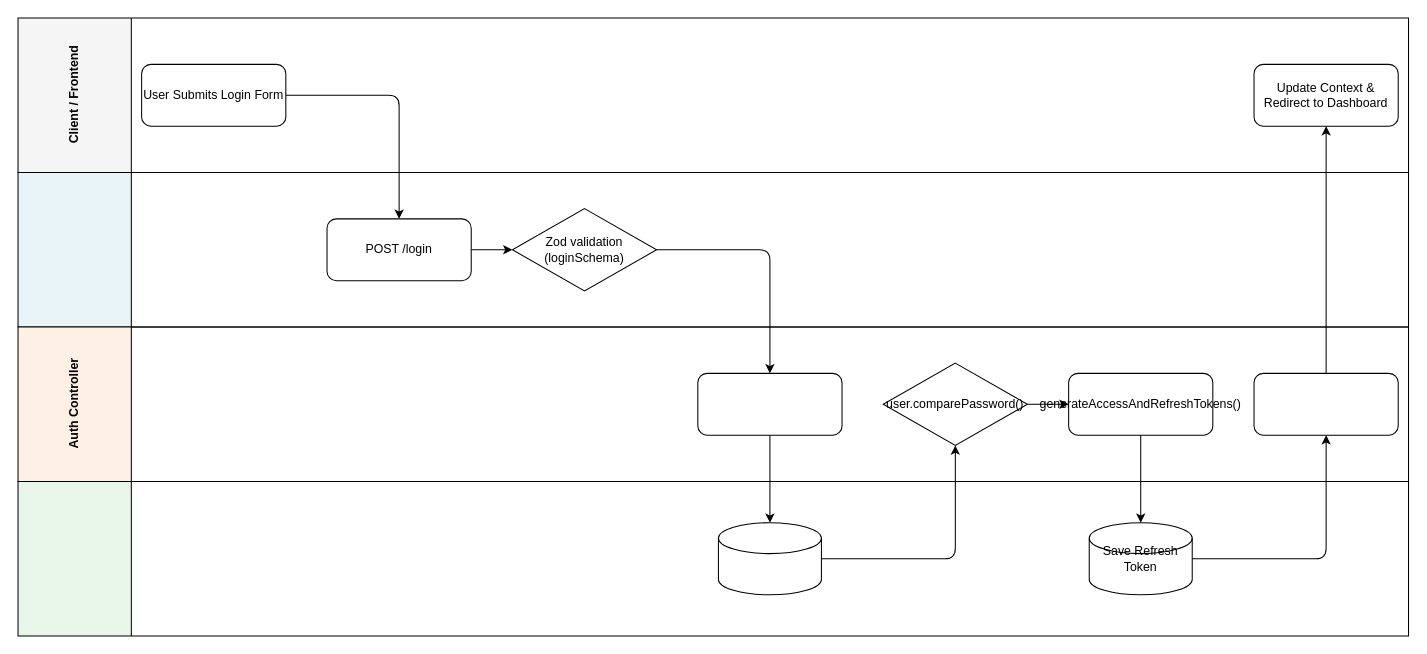
Image size: 1427x654. Some labels were removed from this diagram. Here are the shapes that lost their labels. From the top down, the box of each, then its label:
(17, 171, 1409, 327): Router & Middleware
(697, 372, 842, 435): User.findOne({ email })
(1253, 372, 1398, 435): HTTP 200 OK & Set Cookies
(17, 480, 1409, 636): Database (MongoDB)
(717, 522, 821, 595): Query User by Email
